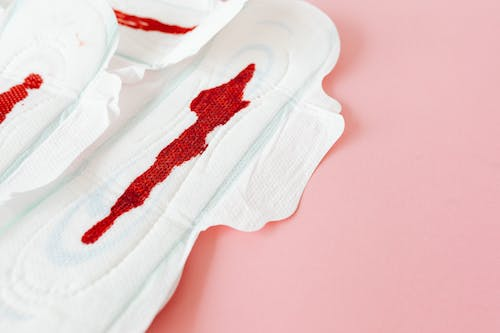blood: (79, 61, 256, 248), (111, 5, 201, 36), (0, 69, 45, 126)
